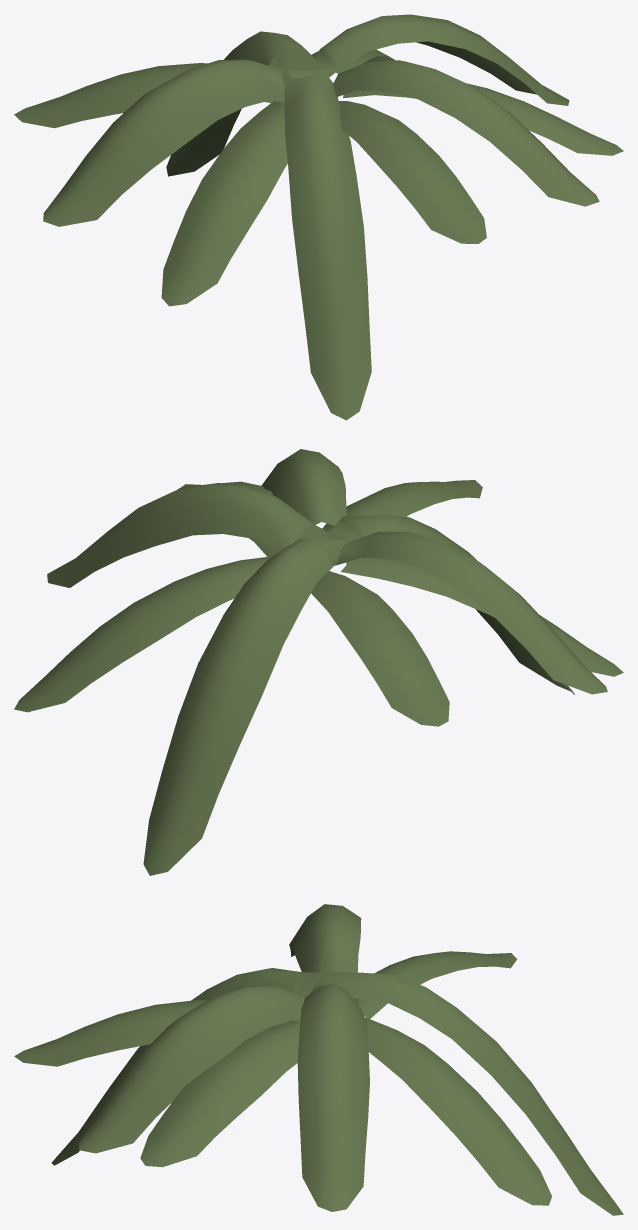
Rendered from PalmLeavesSB1-1-GO.fbx.
3 views of the same model, one above another, from view 1: azimuth 30°, elevation 25°; view 2: azimuth 150°, elevation 25°; view 3: azimuth 270°, elevation 25° (orthographic). The views are drawn at different scales.
Parts seen in each view (by area): view 1: Cylinder.007; view 2: Cylinder.007; view 3: Cylinder.007.
Boxes of the visible parts, left/top/right/bottom form: Cylinder.007: left=14, top=14, right=623, bottom=420; Cylinder.007: left=14, top=449, right=623, bottom=875; Cylinder.007: left=14, top=904, right=623, bottom=1215.
Bounding box in the file's own units: 367 × 169 × 366.
